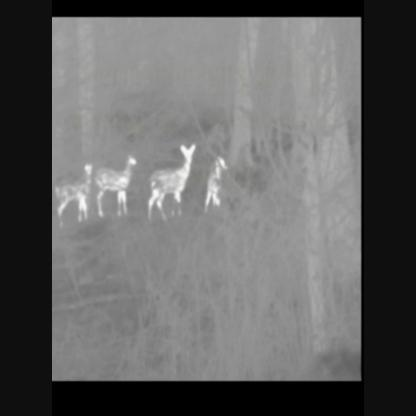rehkitze: (148, 146, 195, 221), (96, 158, 139, 219), (57, 166, 94, 224), (207, 157, 227, 208)
